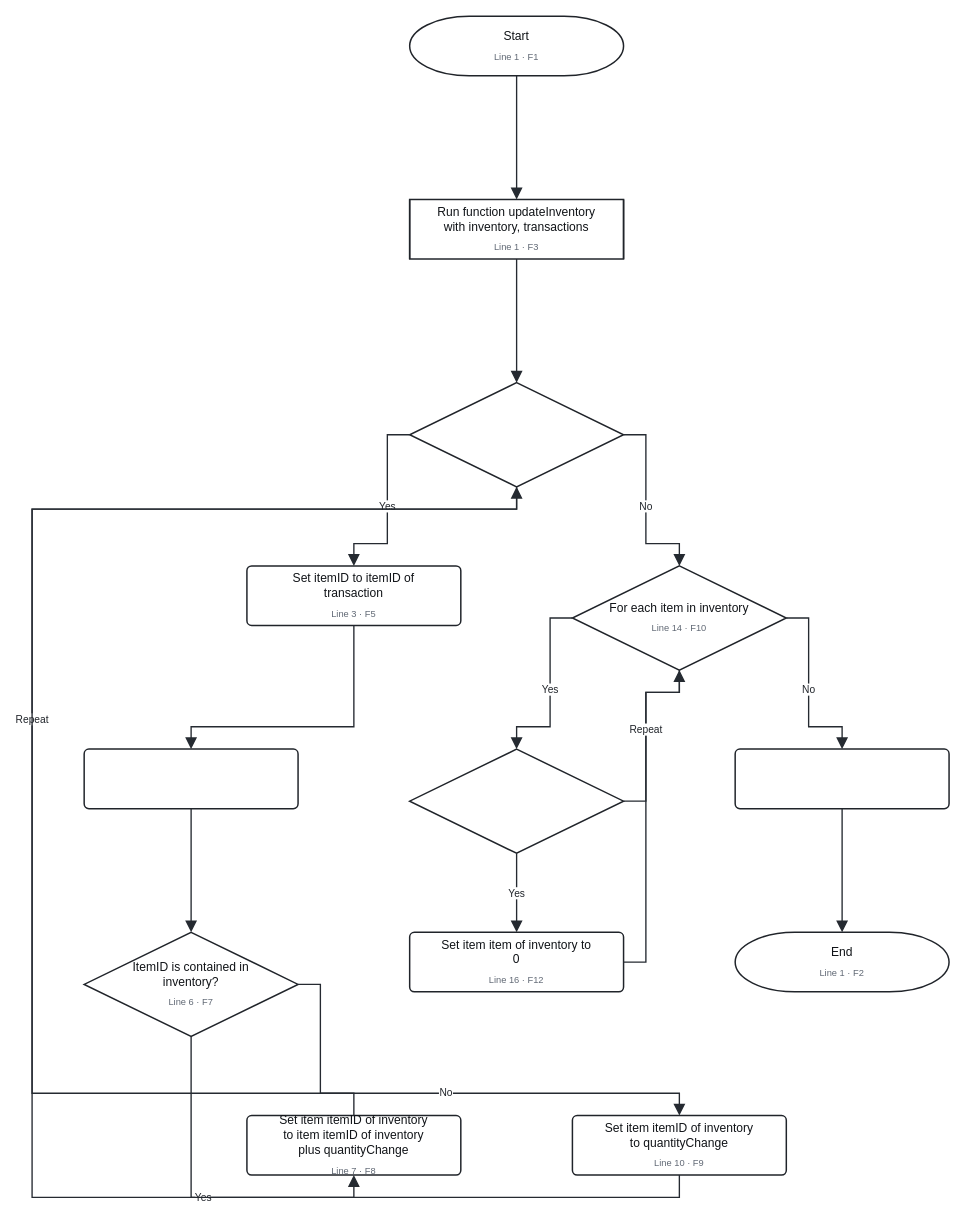
This 966x1225 diagram has some shape labels left out. Each missing label, with the centre of its shape:
"For each transaction in transactions Line 2 · F4" belongs at (516,434).
"Item item of inventory is less than 0? Line 15 · F11" belongs at (516,801).
"Return inventory Line 20 · F13" belongs at (841,778).
"Set quantityChange to quantity of transaction Line 4 · F6" belongs at (190,778).
